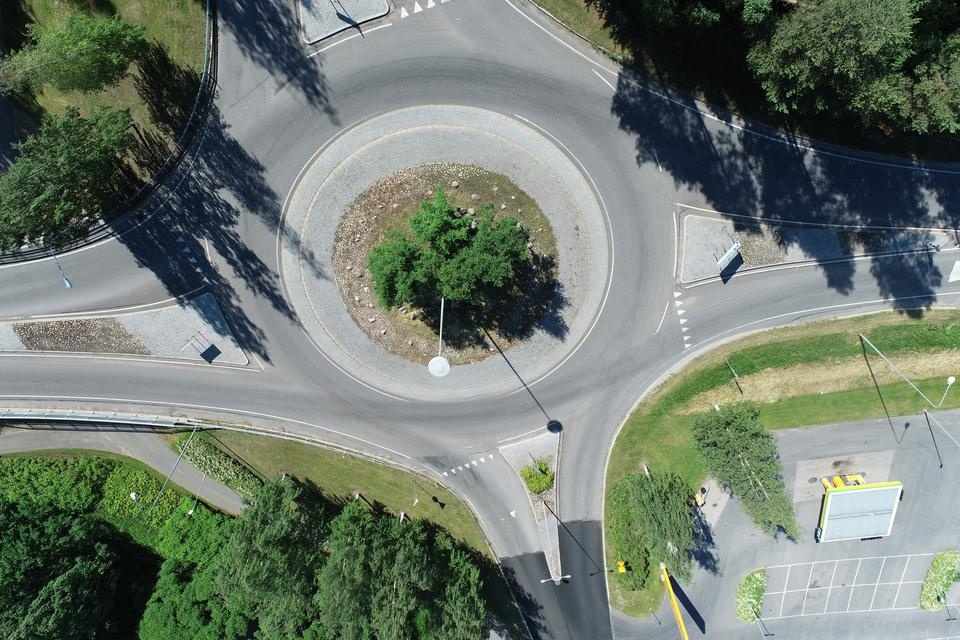roundabout: (168, 14, 734, 480)
